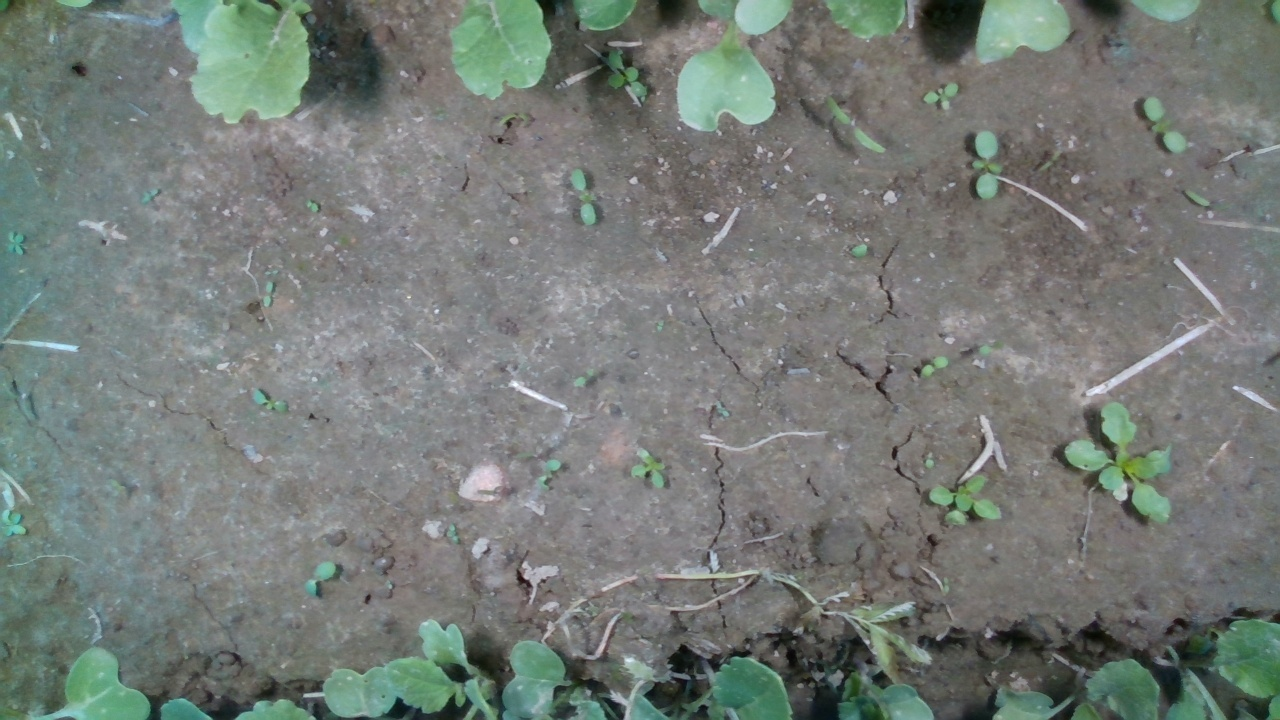weed: (824, 96, 888, 153), (1141, 93, 1190, 154), (967, 130, 1004, 200), (568, 167, 596, 226), (628, 453, 667, 488), (304, 559, 336, 598), (918, 82, 960, 110), (251, 387, 290, 413), (918, 355, 950, 379), (1180, 187, 1213, 207), (6, 230, 26, 257), (260, 278, 274, 308), (303, 198, 320, 212)
